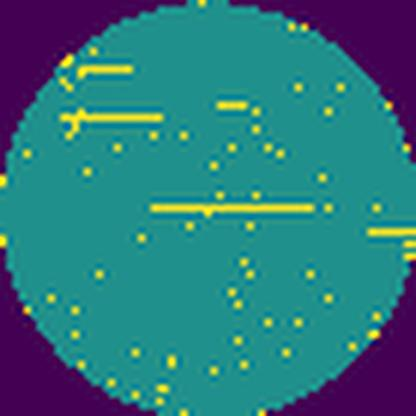Scratch: (144, 192, 322, 224), (55, 102, 165, 144), (362, 220, 416, 263), (72, 59, 136, 90), (210, 94, 258, 118)
